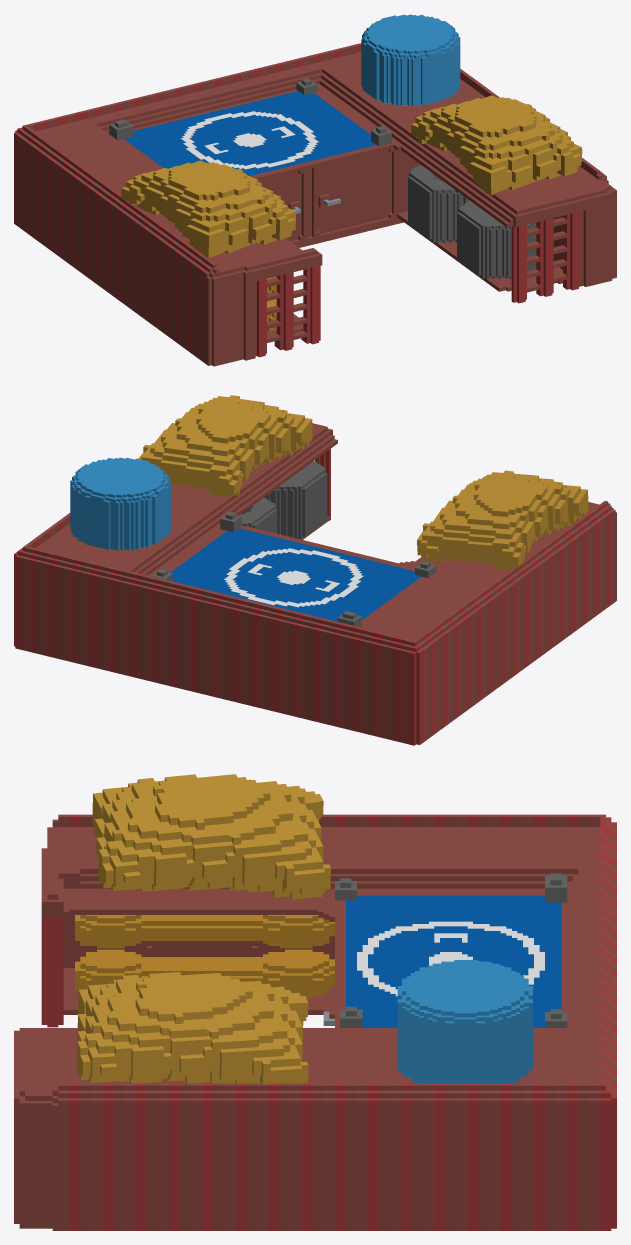
File: base_upgrade_stationv4.obj
The picture shows the model from 3 angles, top to bottom: view 1: azimuth 30°, elevation 25°; view 2: azimuth 150°, elevation 25°; view 3: azimuth 270°, elevation 25°; orthographic projection. The views are drawn at different scales.
Visible parts, largest first — view 1: Untitled; view 2: Untitled; view 3: Untitled.
Boxes of the visible parts, x1=… form: Untitled: x1=14, y1=14, x2=616, y2=366; Untitled: x1=14, y1=395, x2=616, y2=745; Untitled: x1=14, y1=774, x2=616, y2=1230.
Size of the model in its own units: 3.6 by 1.23 by 3.27.
4 materials, 1 textured.
